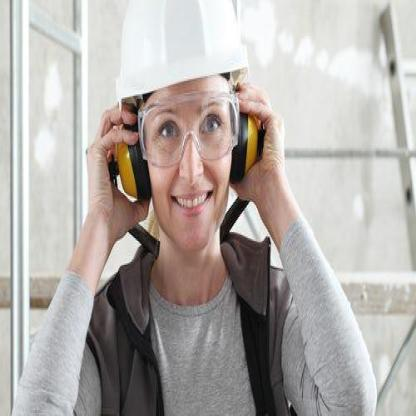capacete: (116, 0, 248, 105), (128, 98, 244, 159)
